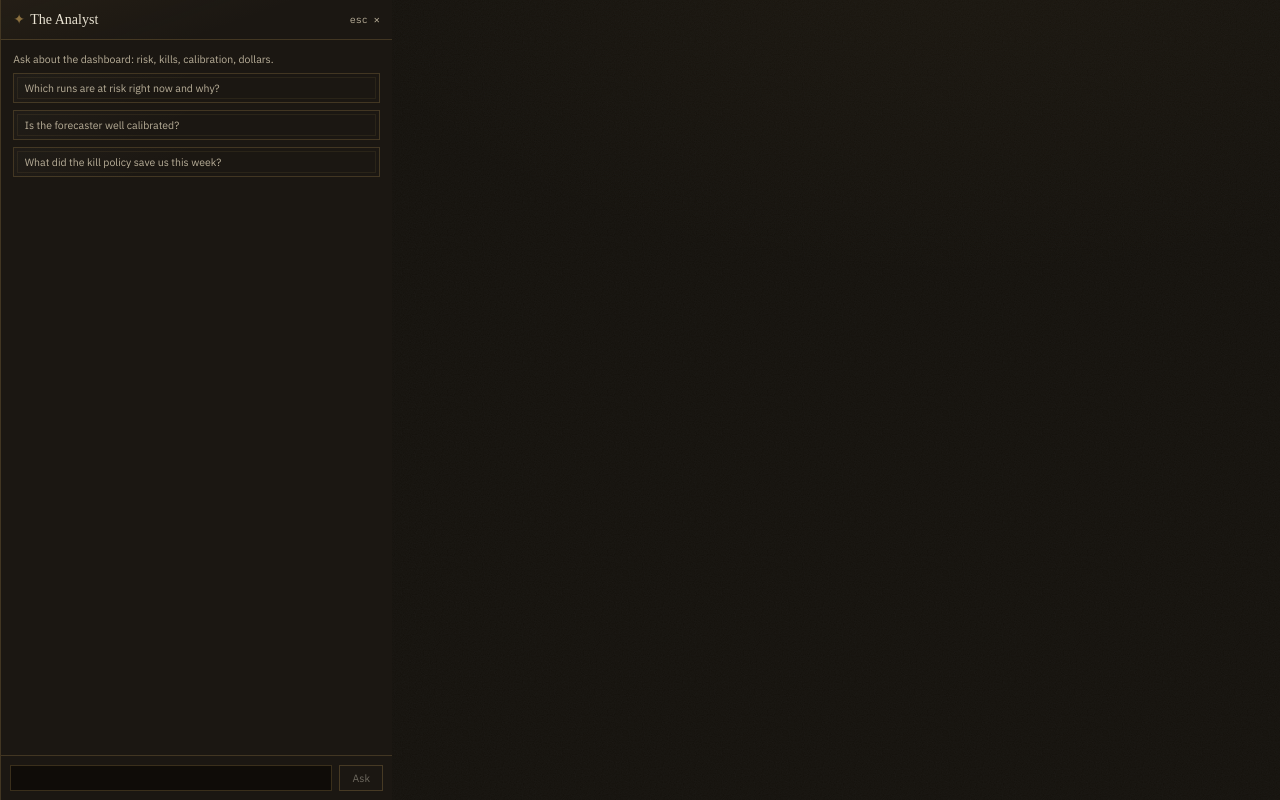
Test: CopilotPanel › streams an answer with live tool chips
Type "Which runs are at risk?" into the field with test id "copilot-input".
click(171, 778); type("Which runs are at risk?")  # box [10,765,332,791]
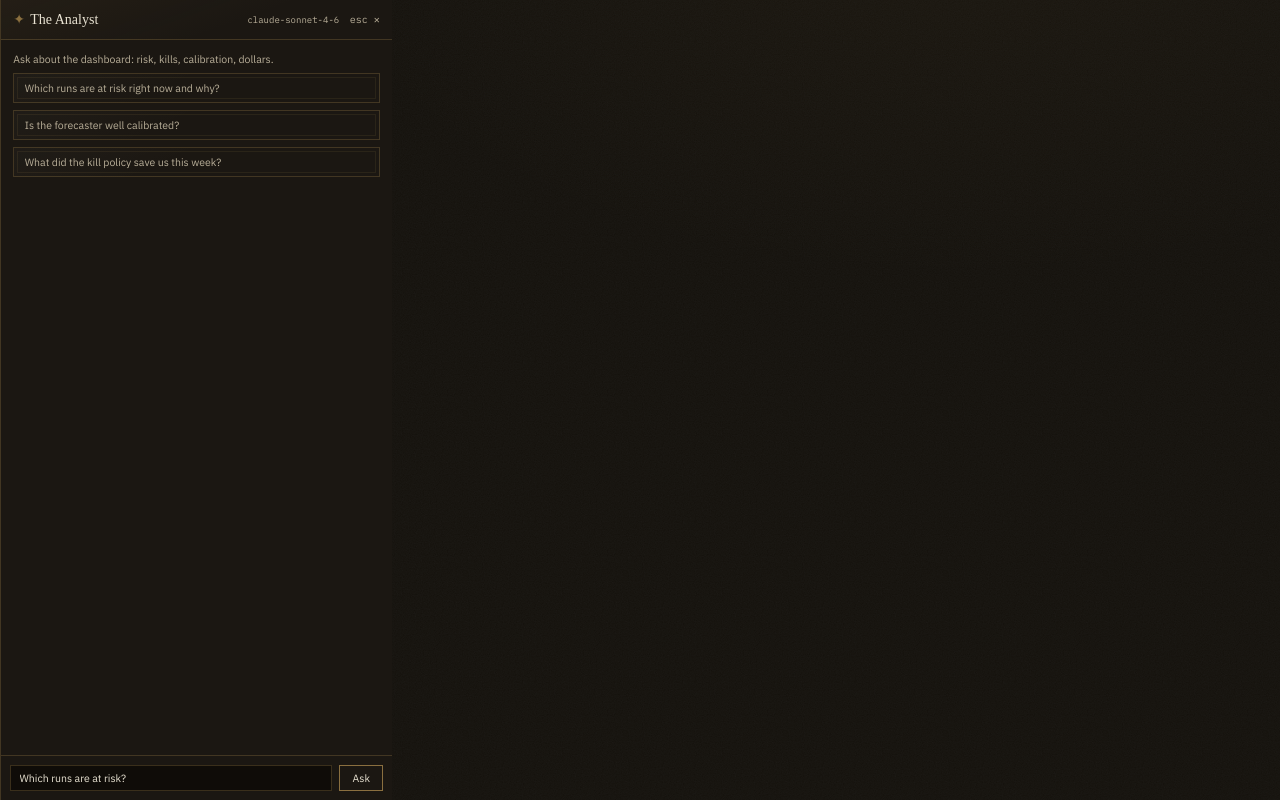
Click the button "Ask".
click(361, 778)  # box [339,765,383,791]
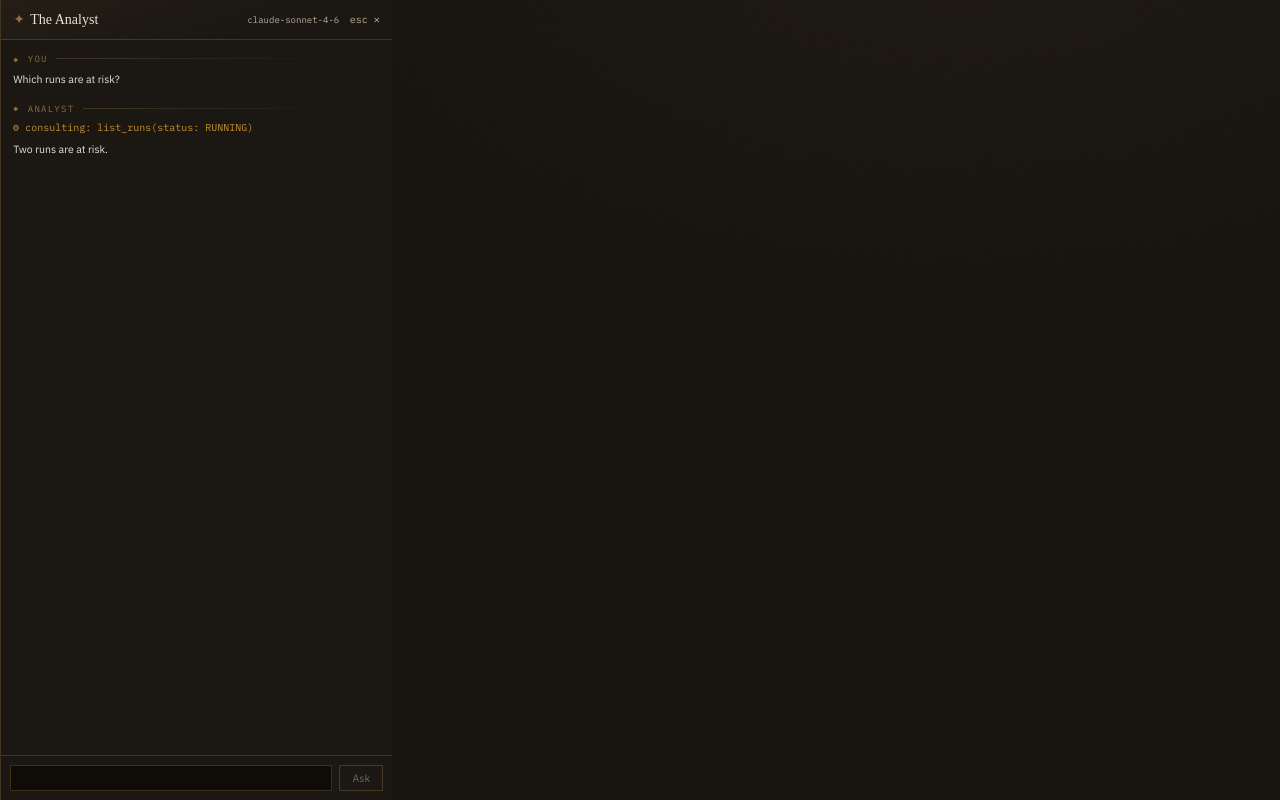
Result: the text "Two runs are at risk." is shown at [13,142,108,156]
Result: the text with test id "tool-chip" shows "consulting: list_runs(status: RUNNING)" at [13,121,253,134]
